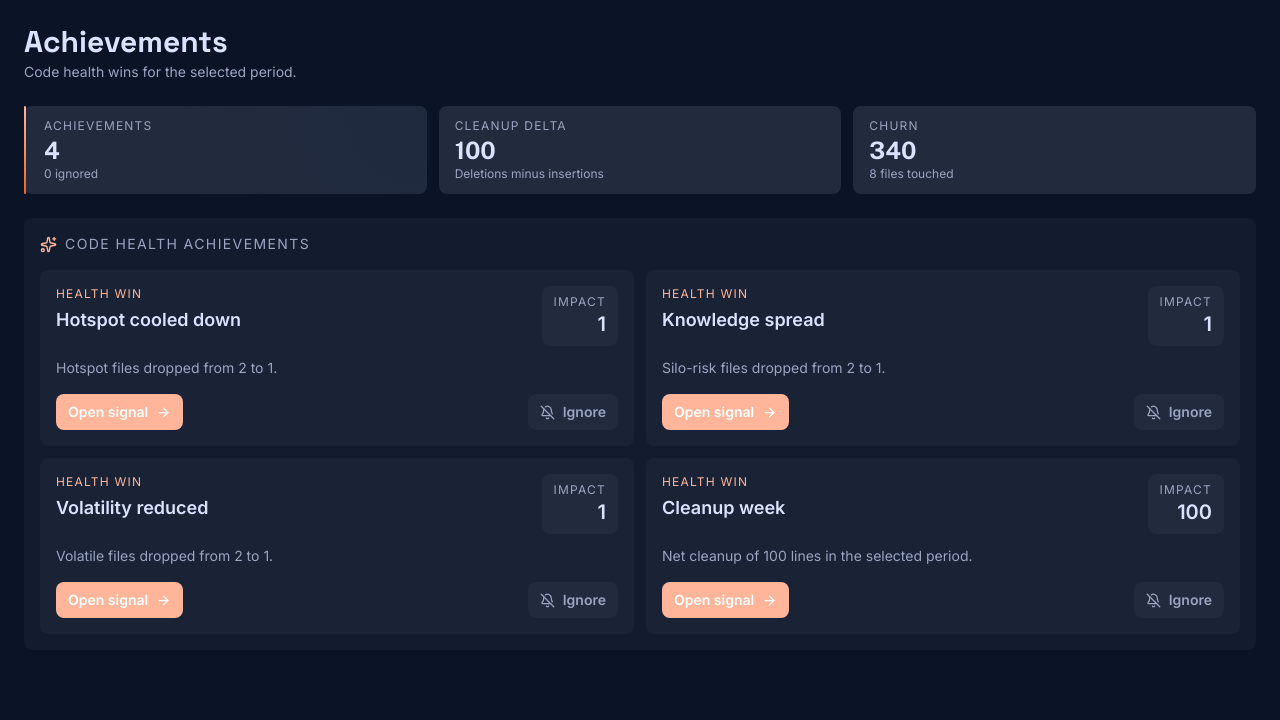
Test: Achievements page › shows code health achievements and lets the user ignore one
This screenshot has width=1280, height=720.
Expected: the heading "Achievements" is shown, [24,22,228,61]
Expected: the heading "Hotspot cooled down" is shown, [56,306,241,334]
Click the button with aria-label "ignore hotspot cooled down" at (573, 412), box [528,394,618,430]
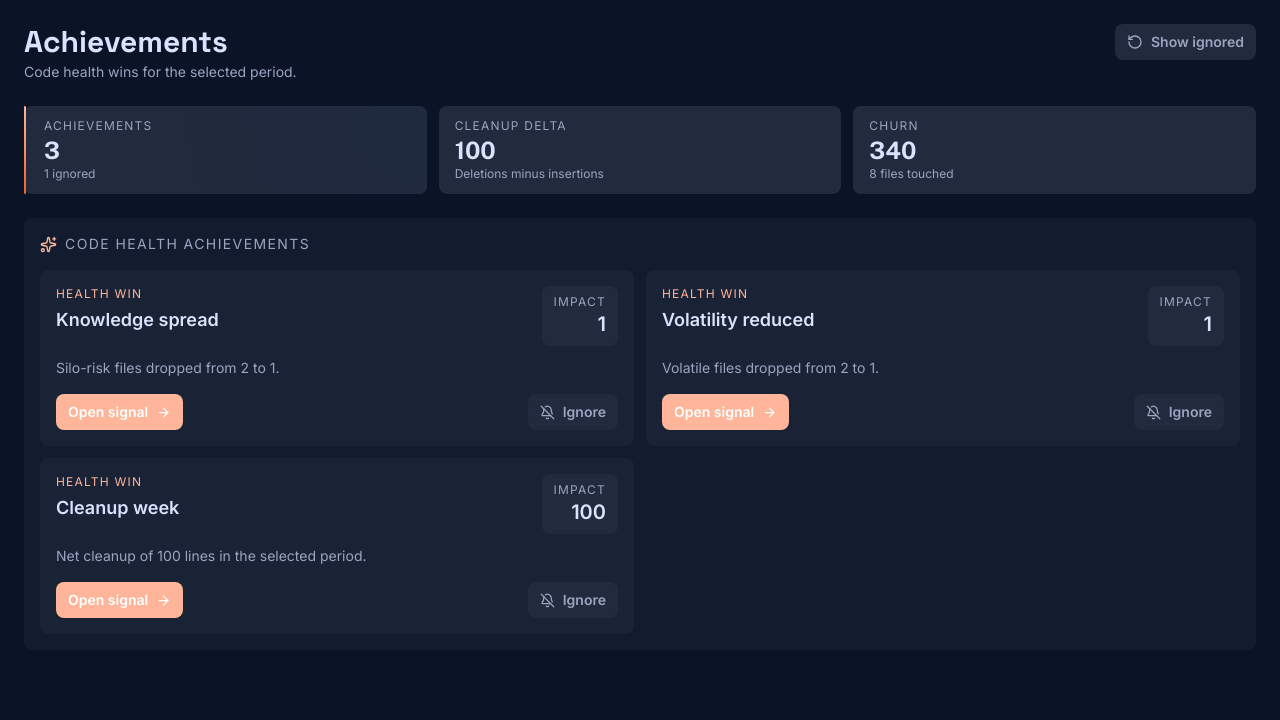
Result: the heading "Hotspot cooled down" is gone
